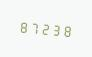eight: (18, 17, 28, 35), (62, 21, 72, 39)
seven: (29, 18, 39, 36)
three: (51, 20, 61, 38)
two: (40, 19, 50, 37)
